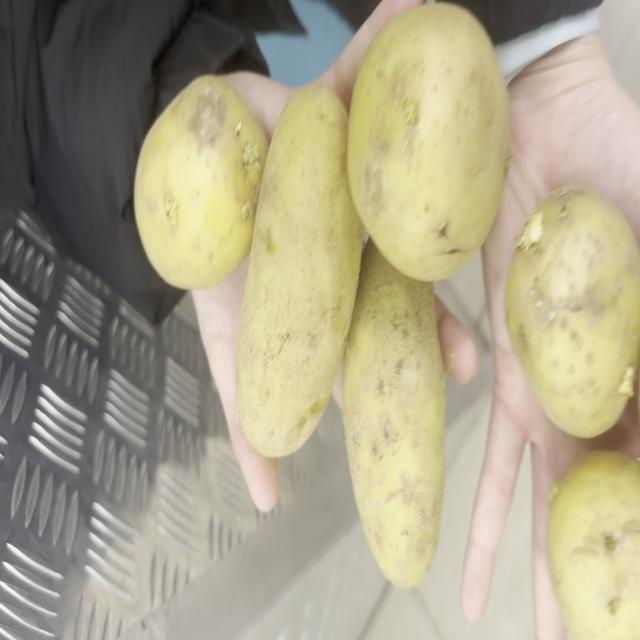potato: (236, 82, 364, 457), (348, 4, 510, 282), (344, 240, 445, 587), (505, 185, 640, 438), (134, 75, 268, 289), (548, 450, 640, 639)
